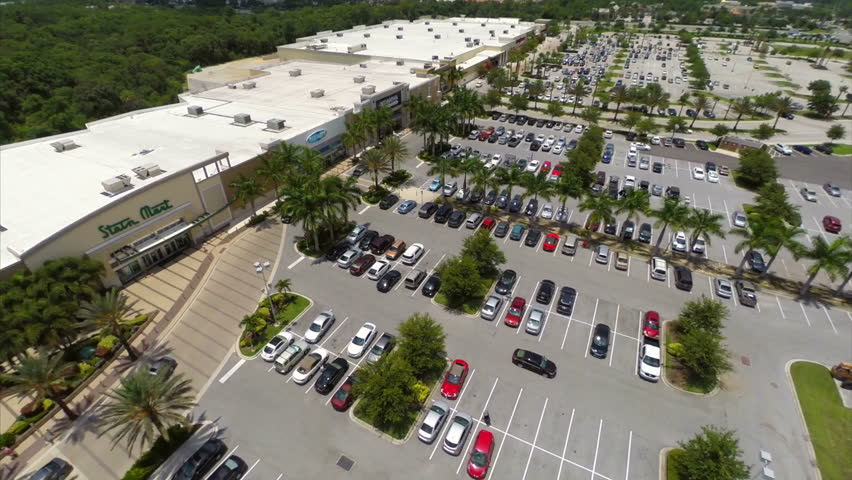car: (639, 336, 666, 392), (469, 428, 497, 479), (444, 411, 472, 458), (418, 398, 444, 447), (444, 354, 469, 403), (293, 348, 326, 383), (369, 332, 398, 367), (318, 358, 345, 394), (349, 322, 374, 357), (261, 332, 293, 358), (278, 342, 307, 369), (306, 313, 335, 339), (590, 325, 611, 359), (673, 260, 695, 292), (649, 254, 669, 285), (745, 249, 769, 274), (541, 198, 561, 228), (507, 297, 525, 327), (557, 287, 575, 317), (498, 268, 517, 296), (372, 232, 394, 256), (480, 293, 498, 322), (713, 273, 733, 299), (737, 279, 756, 306), (369, 259, 389, 283), (424, 274, 442, 300), (350, 253, 373, 273), (345, 223, 365, 246), (644, 308, 661, 335), (434, 201, 452, 225), (402, 242, 423, 262), (406, 268, 425, 290), (538, 280, 555, 304), (693, 231, 710, 255), (543, 231, 559, 256), (526, 307, 540, 335), (616, 247, 631, 272), (361, 227, 376, 251), (672, 231, 689, 252), (496, 186, 512, 208), (386, 237, 403, 257), (604, 213, 618, 237), (448, 208, 463, 230), (336, 247, 356, 263), (399, 197, 415, 215), (564, 234, 577, 256), (511, 192, 524, 214), (496, 220, 511, 239), (510, 223, 523, 244), (555, 203, 568, 224), (597, 242, 608, 266), (466, 212, 482, 228), (418, 200, 433, 217), (527, 229, 542, 245), (482, 216, 496, 233), (623, 218, 634, 239), (639, 221, 649, 244), (444, 178, 456, 197), (429, 173, 440, 193), (483, 185, 494, 203), (456, 182, 467, 199), (527, 200, 535, 214)
